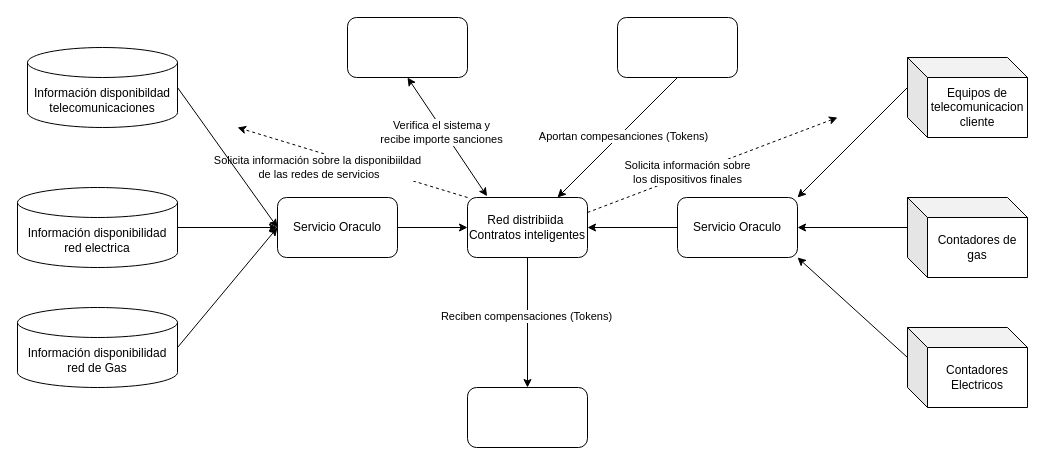
Some shapes in this 1045 by 465 pixel diagram are drawn without their labels. The shapes that lost their labels are listed below. From the top down, each one's box as (x1, y1, x2, y2) in pixels, then its label:
(346, 16, 468, 78): Gobierno
(616, 16, 738, 78): Compañias de suministros
(466, 386, 588, 448): Customers
